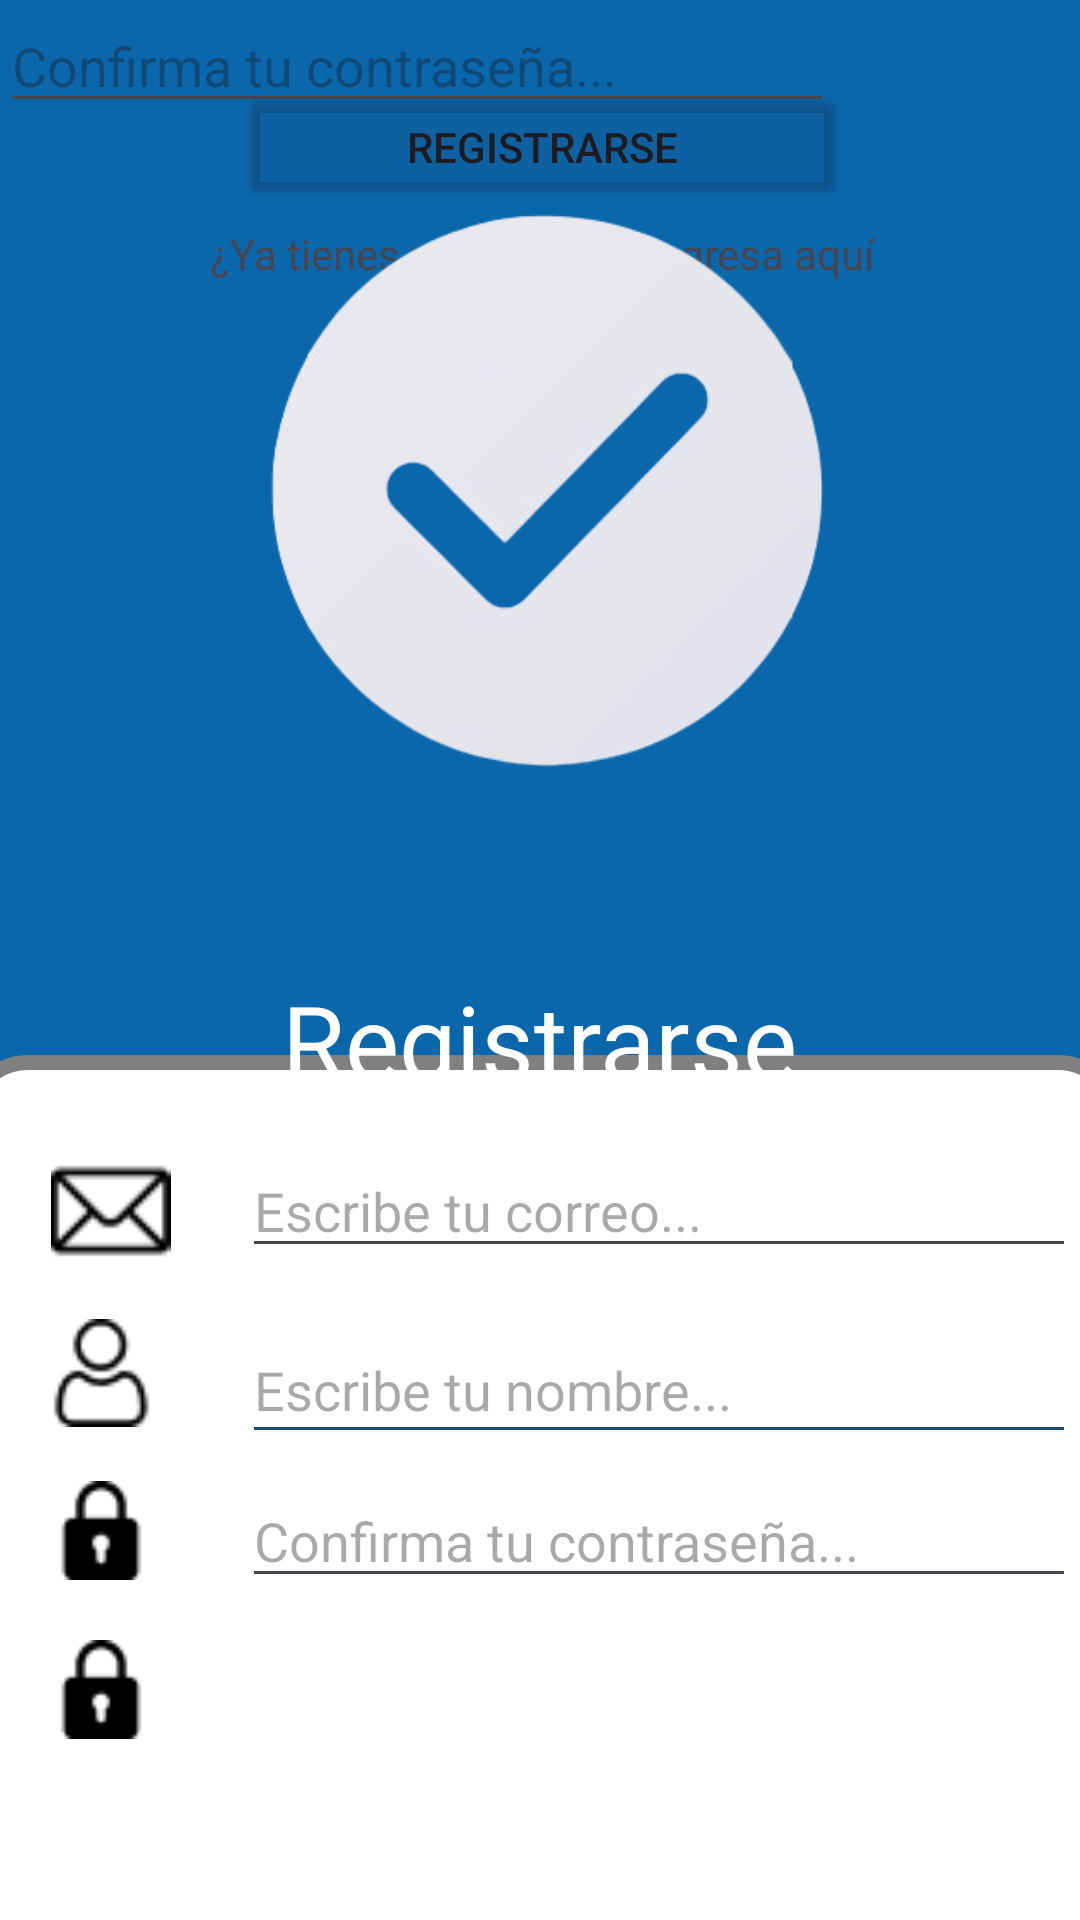

Screen size 1080px x 1920px. Icon name, then its box in pixels as (x1, y1, x2, y2):
correro: (51, 1166, 171, 1256)
usuario: (54, 1319, 149, 1427)
